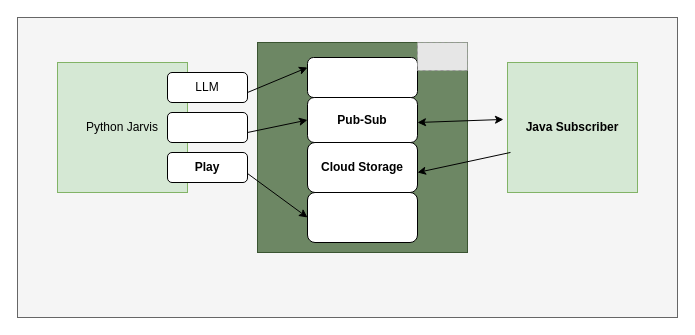
The diagram is 695 pixels wide and 335 high, and some of its shapes have lost their labels. Grey dashed boxes stand in for pictures. The shapes that lost their labels are listed below. From the top down, each one's centre as x and y in pixels, then its label:
At pixel 362 77: "GENAI".
At pixel 207 127: "Run IVR".
At pixel 362 217: "YouTube".
